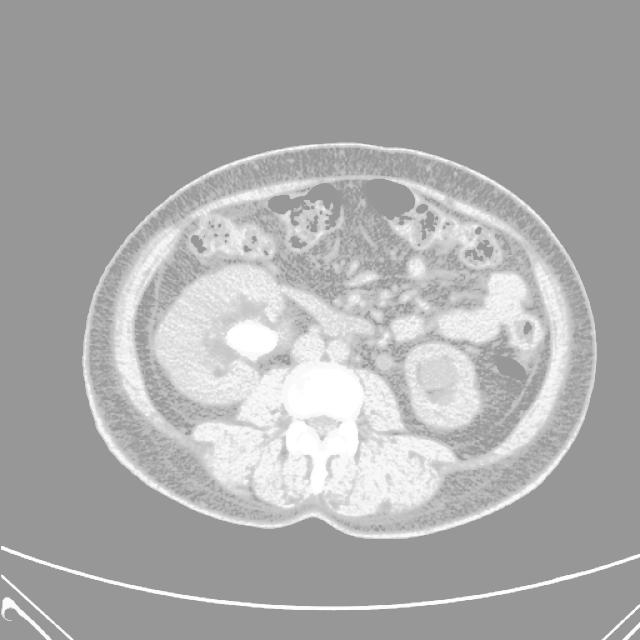STONE: (166, 155, 548, 391)
